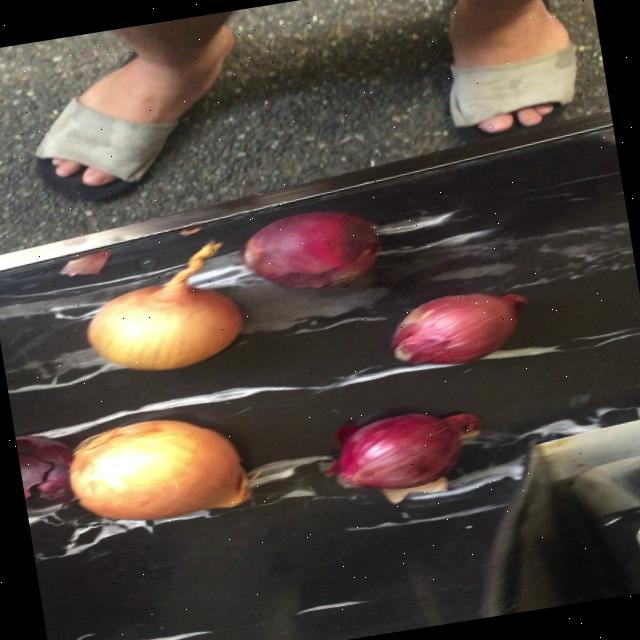Onion: (86, 240, 242, 369), (68, 420, 250, 520), (326, 413, 479, 488), (242, 210, 380, 287), (391, 292, 527, 363)
